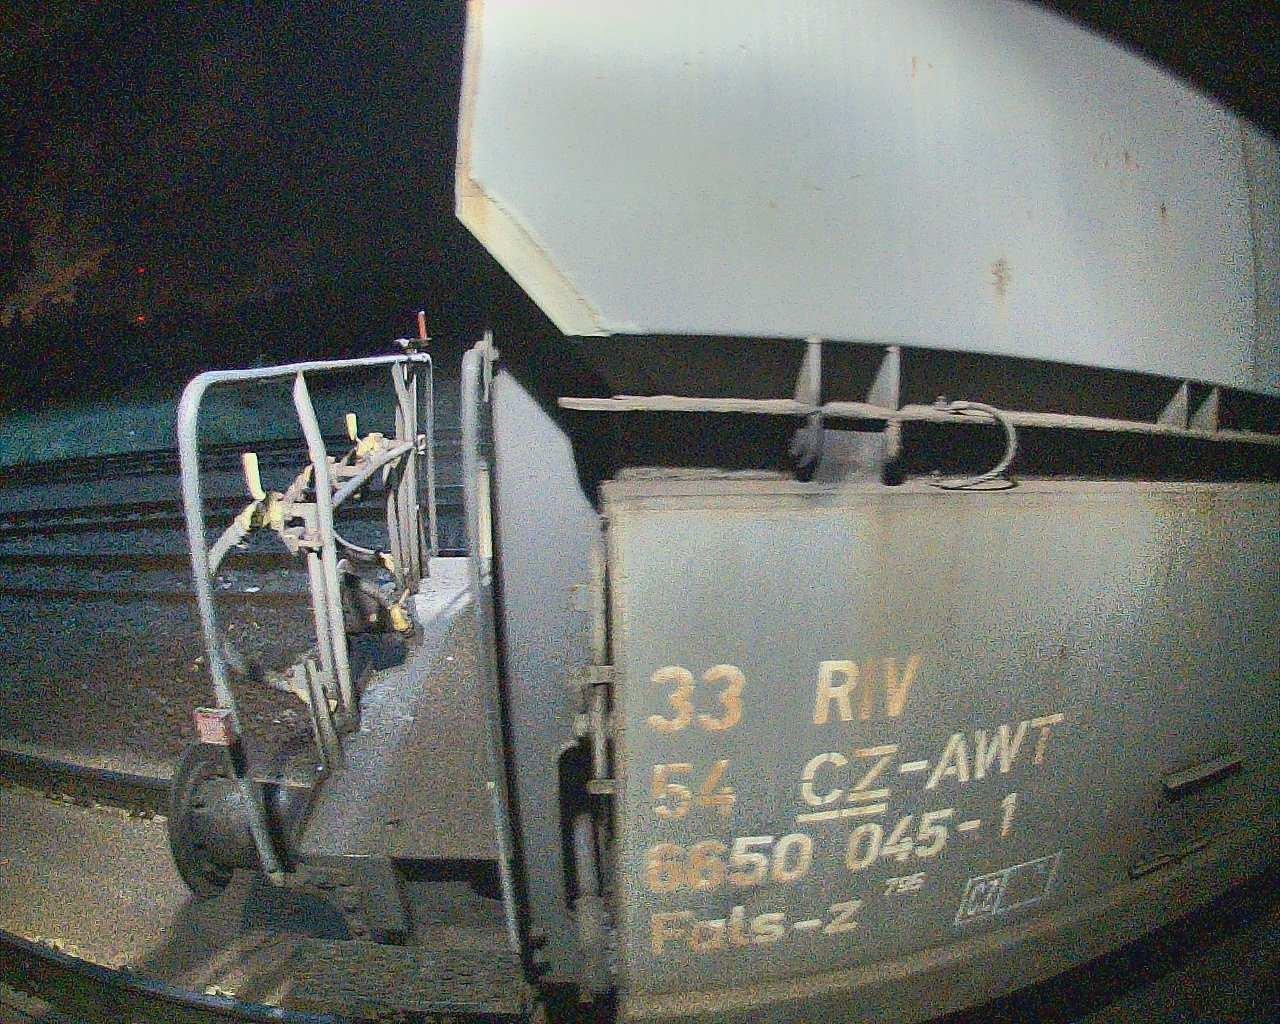UIC: (642, 657, 1070, 956)
